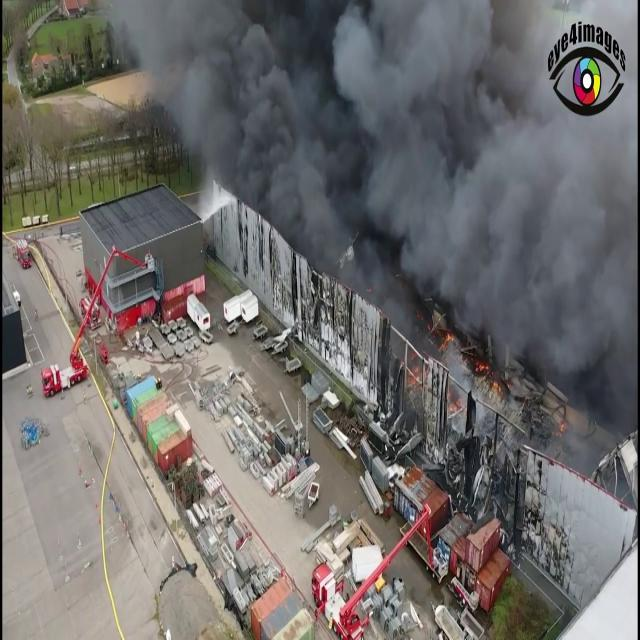Smoke: (124, 1, 630, 378)
